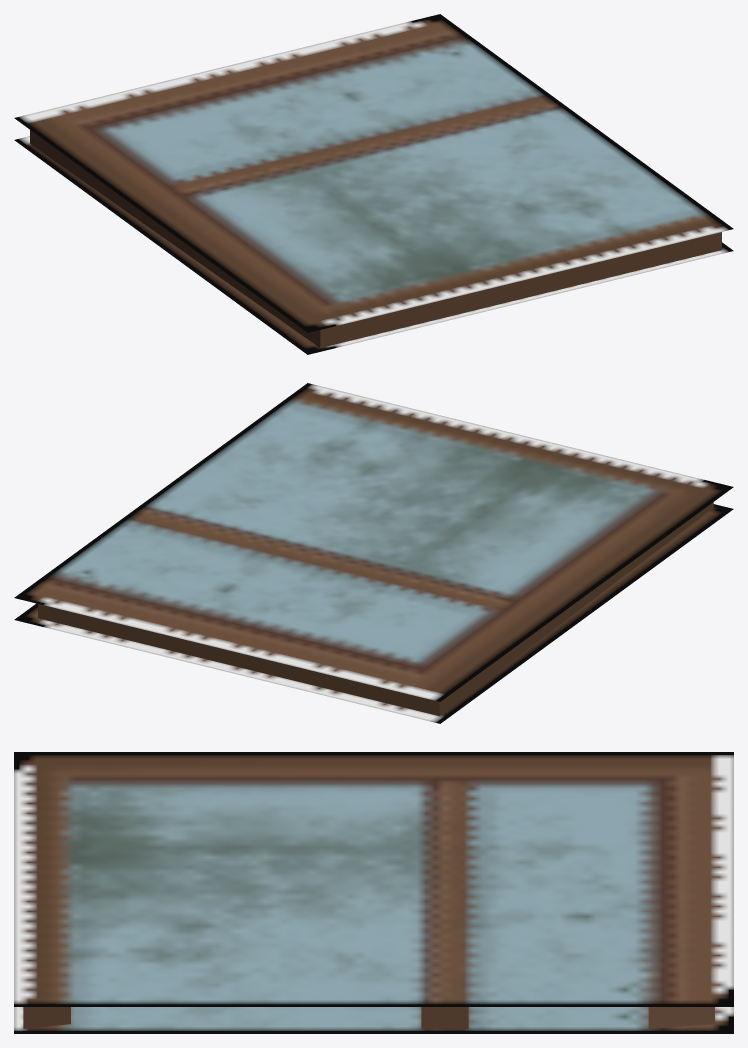
Rendered from pz_native_location_hospitality_sunstarmotel_01_30_frame.obj.
3 views of the same model, one above another, from view 1: azimuth 30°, elevation 25°; view 2: azimuth 150°, elevation 25°; view 3: azimuth 270°, elevation 25° (orthographic). The views are drawn at different scales.
Parts seen in each view (by area): view 1: pz_native_location_hospitality_sunstarmotel_01_30_frame; view 2: pz_native_location_hospitality_sunstarmotel_01_30_frame; view 3: pz_native_location_hospitality_sunstarmotel_01_30_frame.
Part boxes in pixels (box(x1,y1,x2,y2)): pz_native_location_hospitality_sunstarmotel_01_30_frame: box(14, 14, 733, 354); pz_native_location_hospitality_sunstarmotel_01_30_frame: box(14, 383, 733, 723); pz_native_location_hospitality_sunstarmotel_01_30_frame: box(14, 752, 733, 1033).
Size of the model in its own units: 0.8125 by 0.04 by 0.9696.
Materials: 1 (1 with a texture image).
